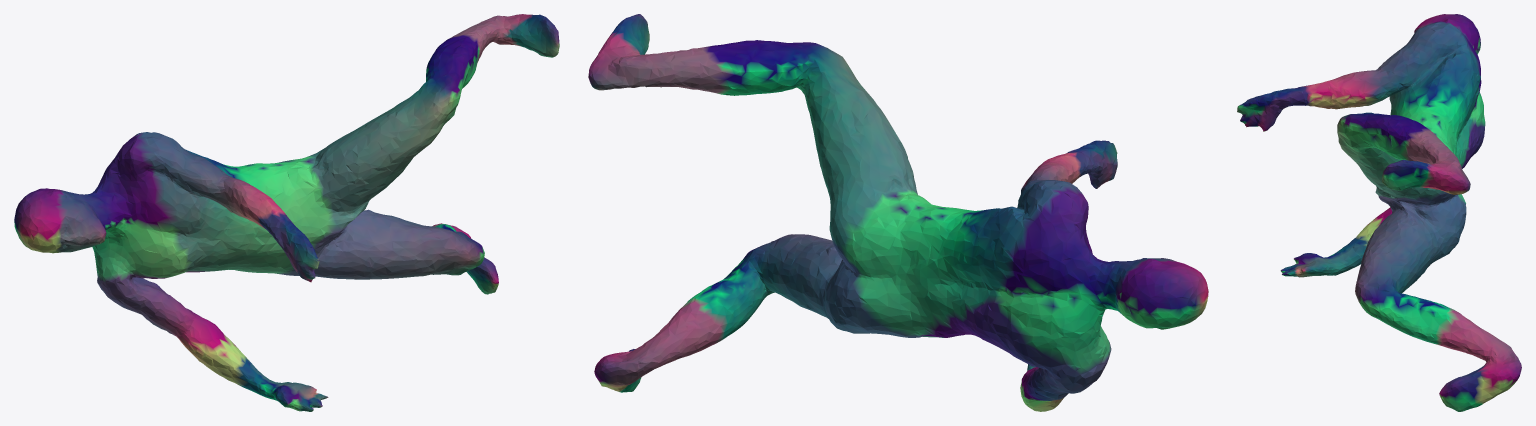
The model's file is man-3.off.obj.
3 views of the same model, side by side, from view 1: azimuth 30°, elevation 25°; view 2: azimuth 150°, elevation 25°; view 3: azimuth 270°, elevation 25° (orthographic). The views are drawn at different scales.
Size of the model in its own units: 1.63 by 0.8815 by 0.8584.
